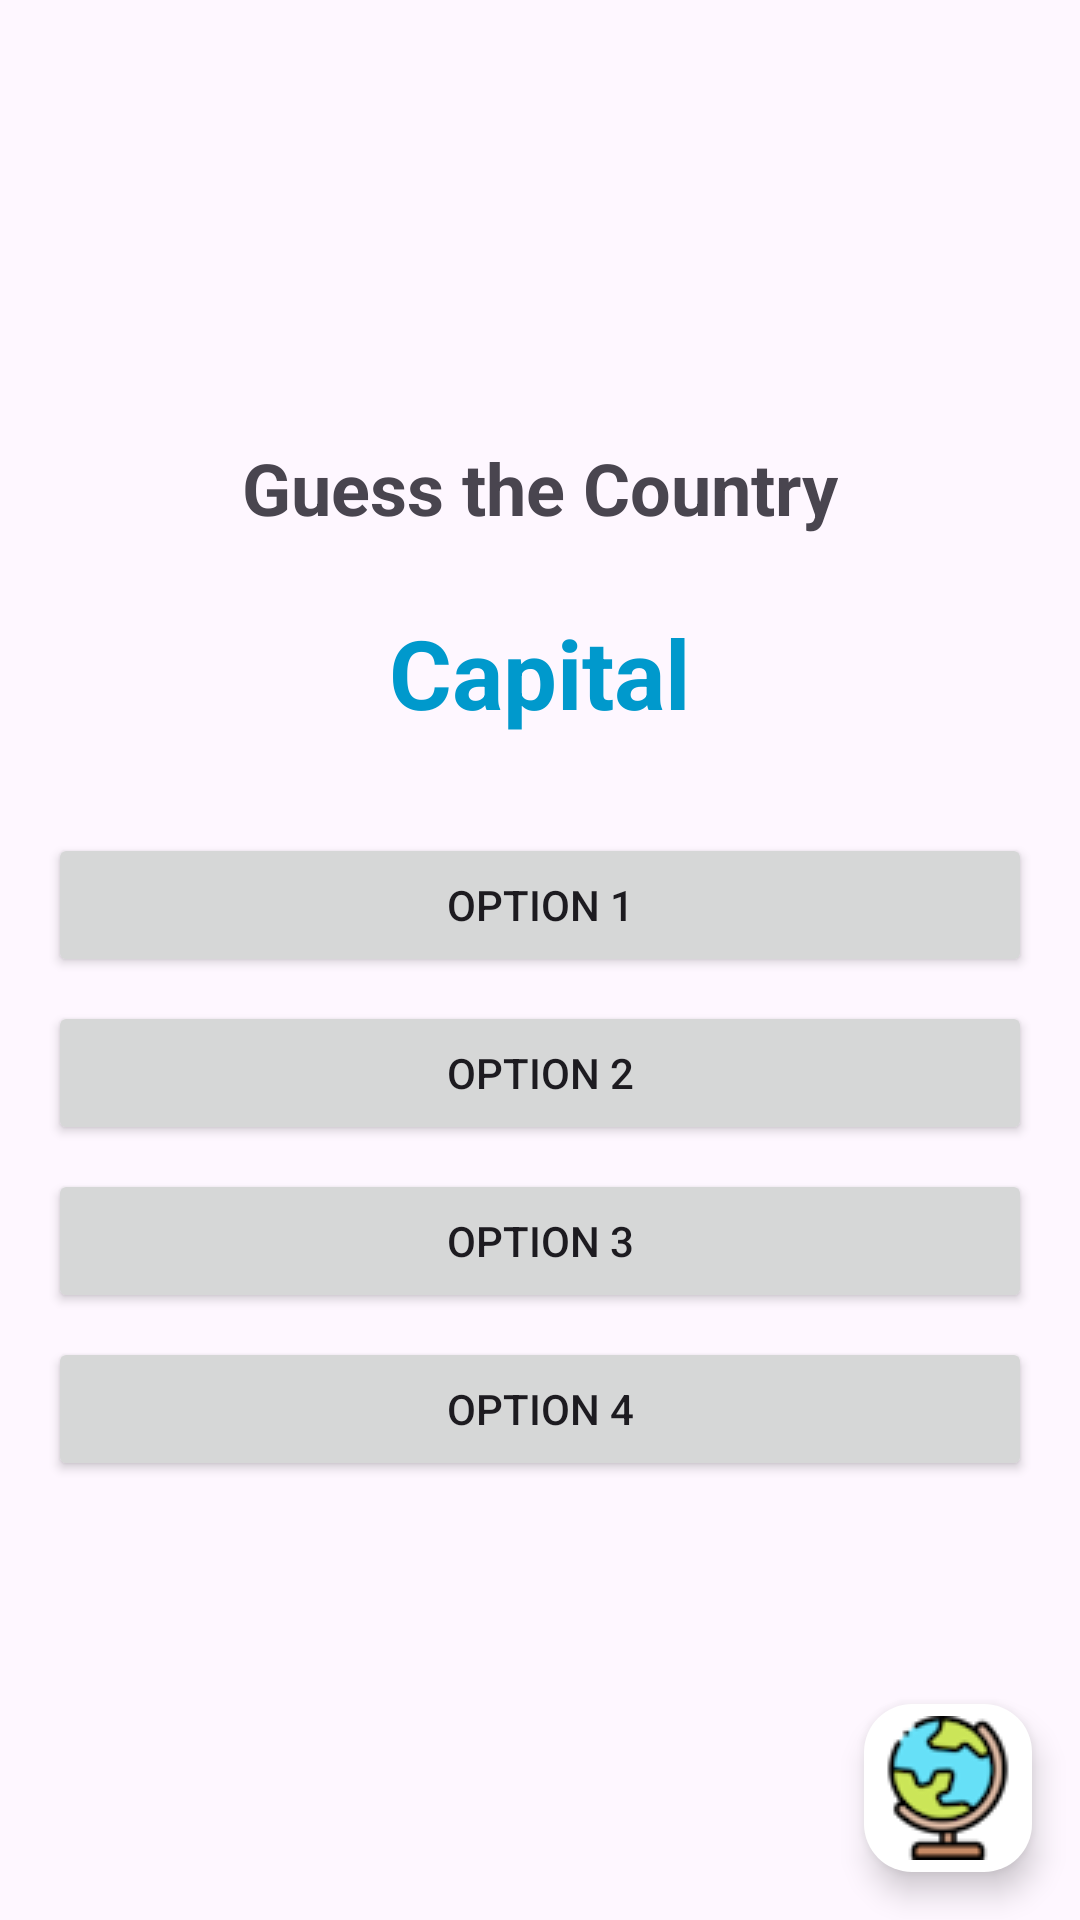

Icons on this 1080*1920 Android screen, each with the point to tap as (x,y):
globus: (948,1788)
